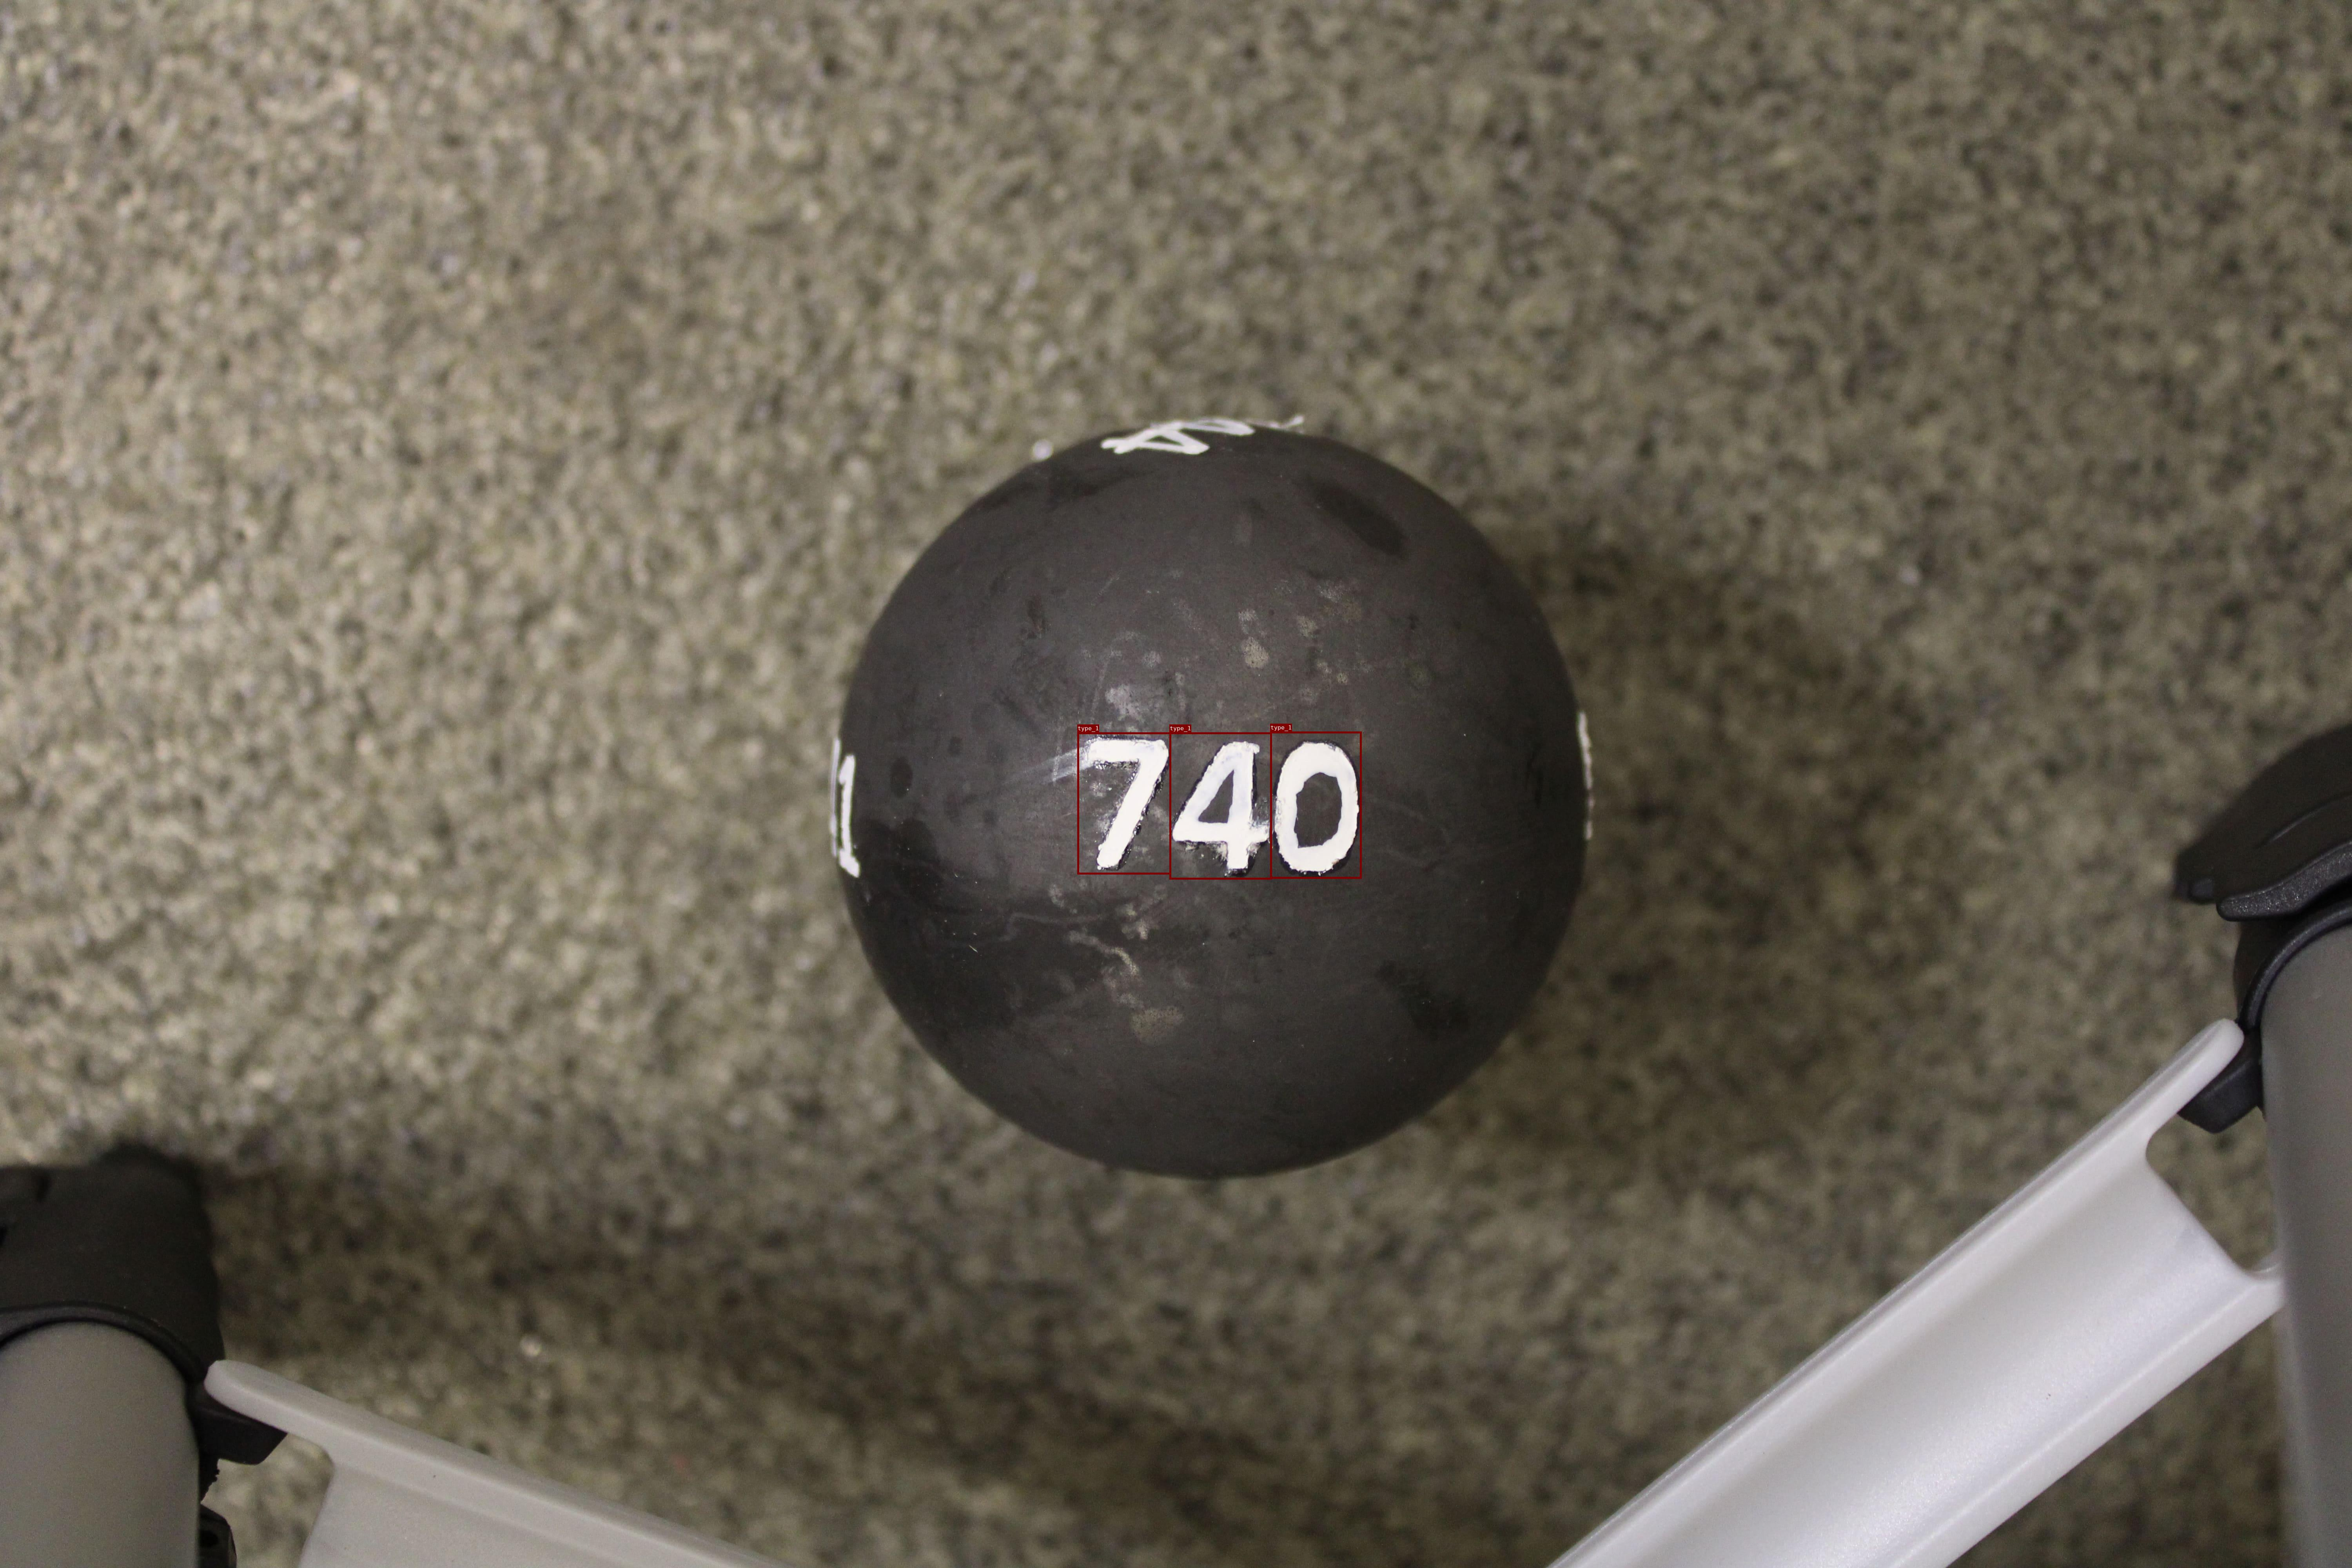type_1: (1169, 732, 1272, 878), (1270, 732, 1361, 878), (1078, 732, 1171, 875)
